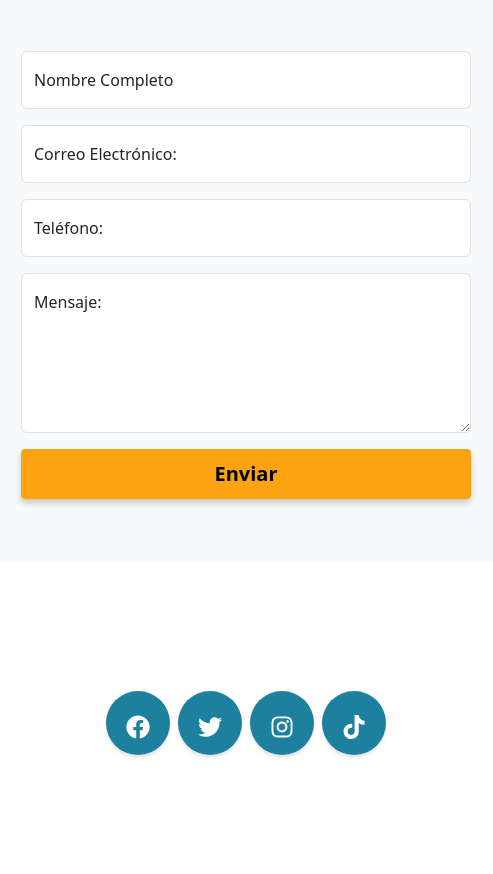
Test: App › Muestra mensajes de error cuando en el formulario se ingresan datos no válidos
(page scrolled)
// Simular envío del formulario sin completar los campos requeridos
Click the button "Enviar".
click(246, 474)  # box left=21, top=449, right=471, bottom=499
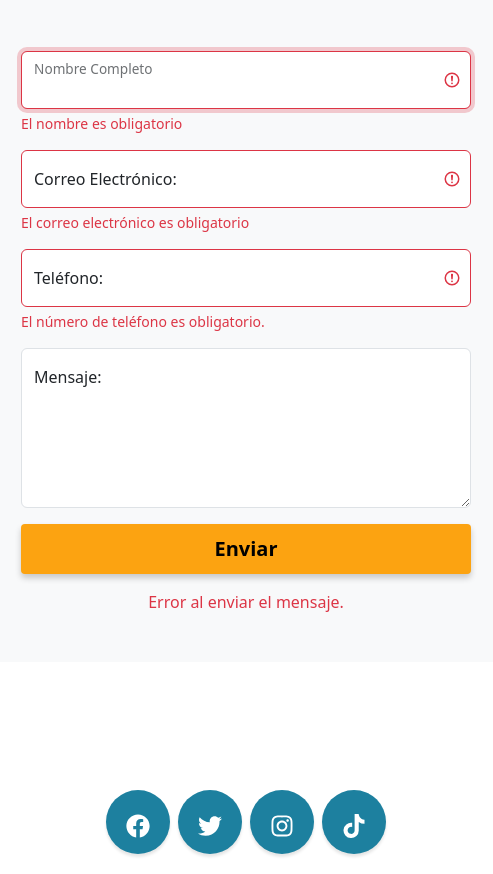
Expected: the text "El nombre es obligatorio" is shown, left=21, top=114, right=182, bottom=133
Expected: the text "El correo electrónico es obligatorio" is shown, left=21, top=213, right=249, bottom=232
Expected: the text "El número de teléfono es obligatorio." is shown, left=21, top=312, right=265, bottom=331
